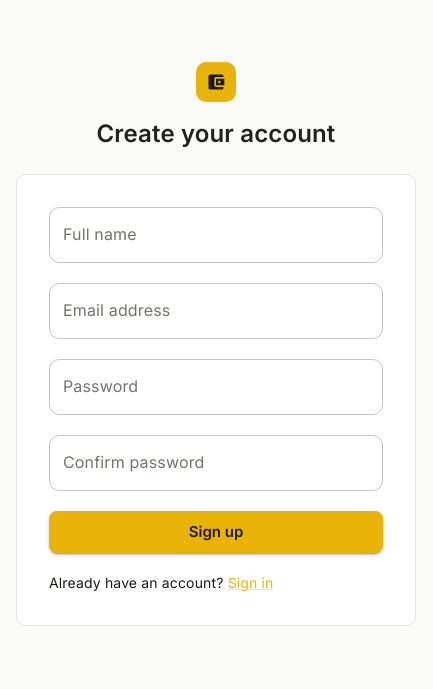
Scenario: Register page › rejects a short name
This screenshot has width=433, height=689.
Step 1. Type "A" into the field labelled "Full name" → (216,235), box x1=49 y1=207 x2=383 y2=263
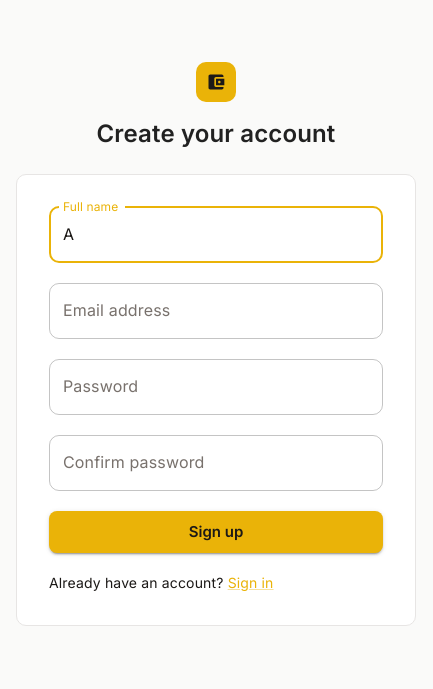
Step 2. Click the button "Sign up" → (216,532), box x1=49 y1=511 x2=383 y2=553
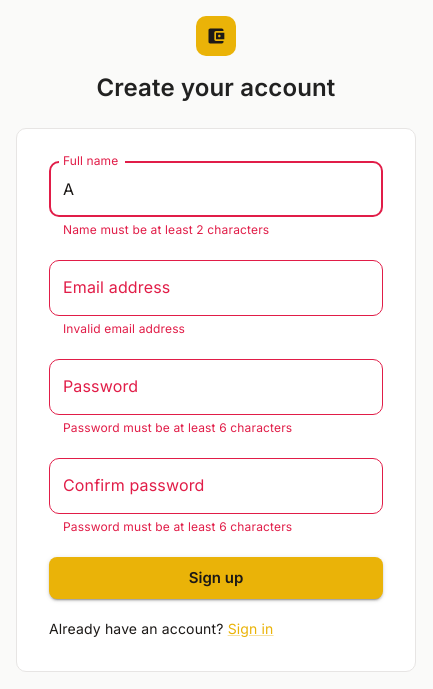
Now the text "Name must be at least 2 characters" is shown, box x1=63 y1=222 x2=269 y2=237
